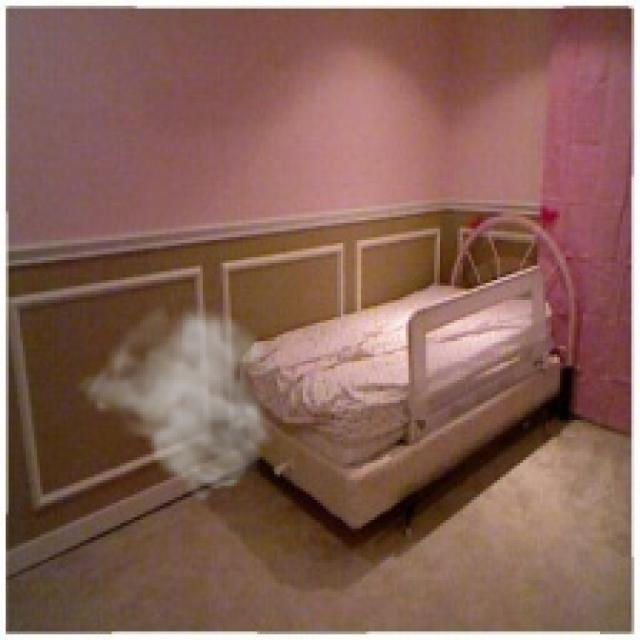Smoke: (71, 300, 292, 506)
